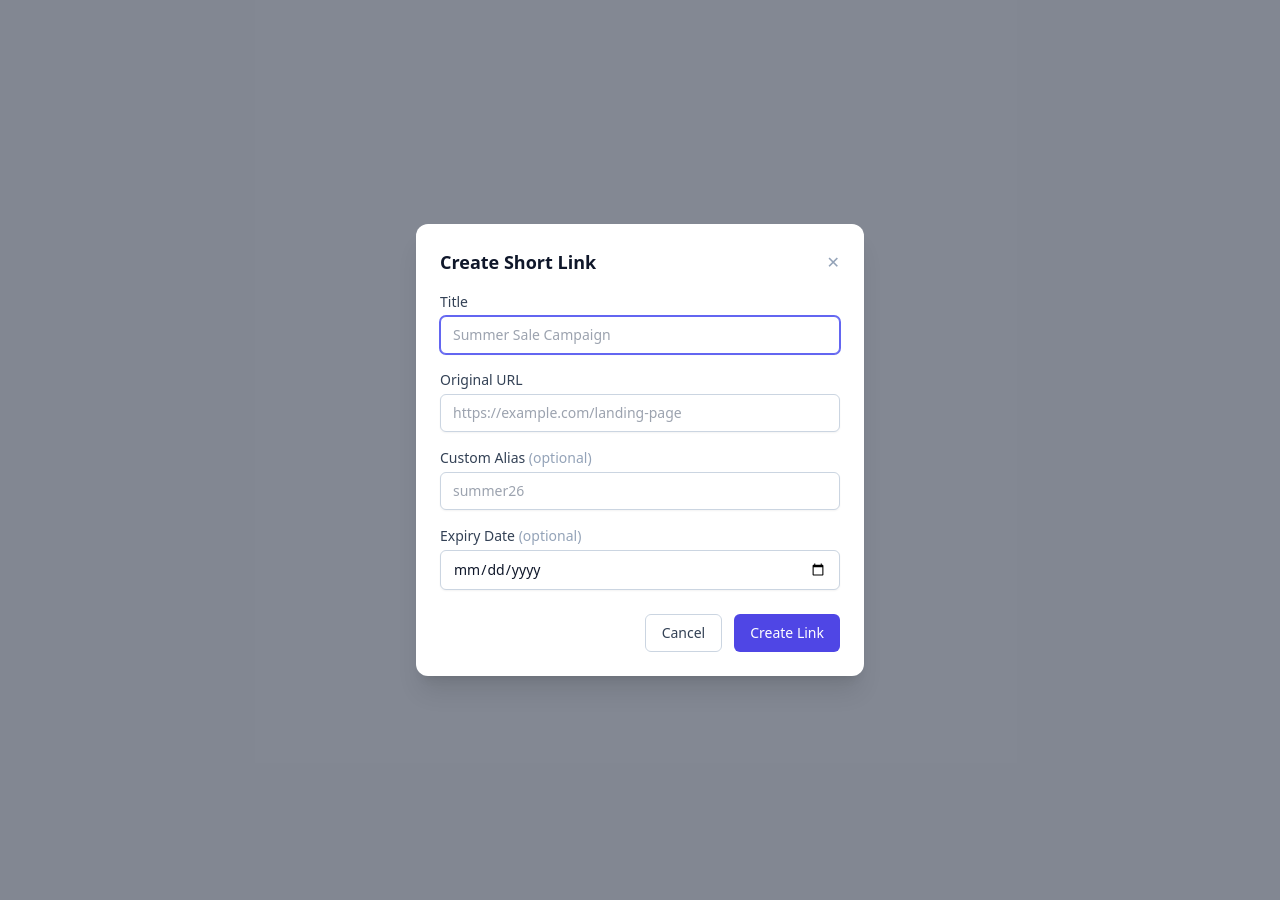
it: LinkFormModal › shows a validation error for a custom alias with invalid characters
Type "My Link" into the field labelled "Title".
click(640, 335); type("My Link")  # box 440,316 -> 840,354
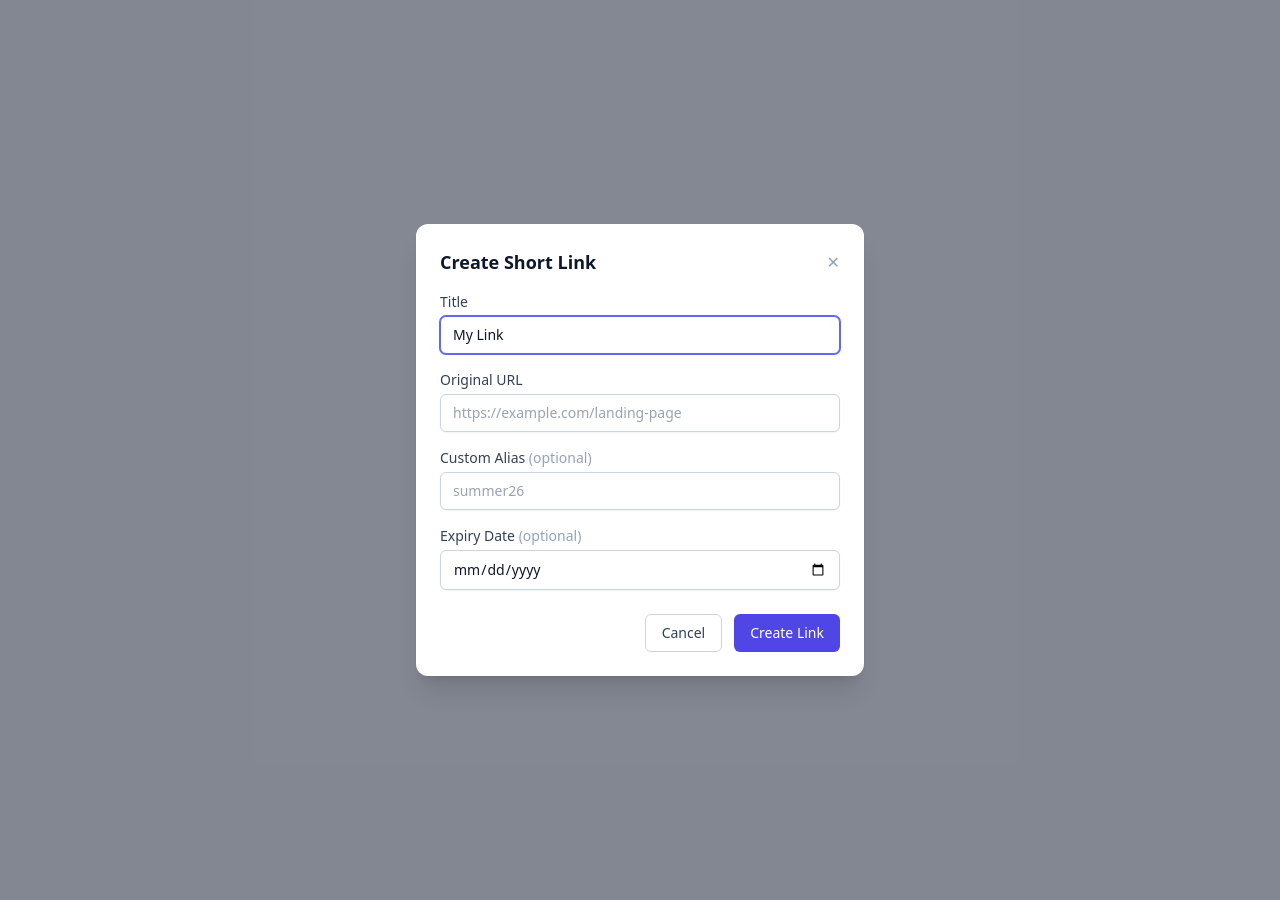
Type "https://example.com" into the field labelled "Original URL".
click(640, 413); type("https://example.com")  # box 440,394 -> 840,432
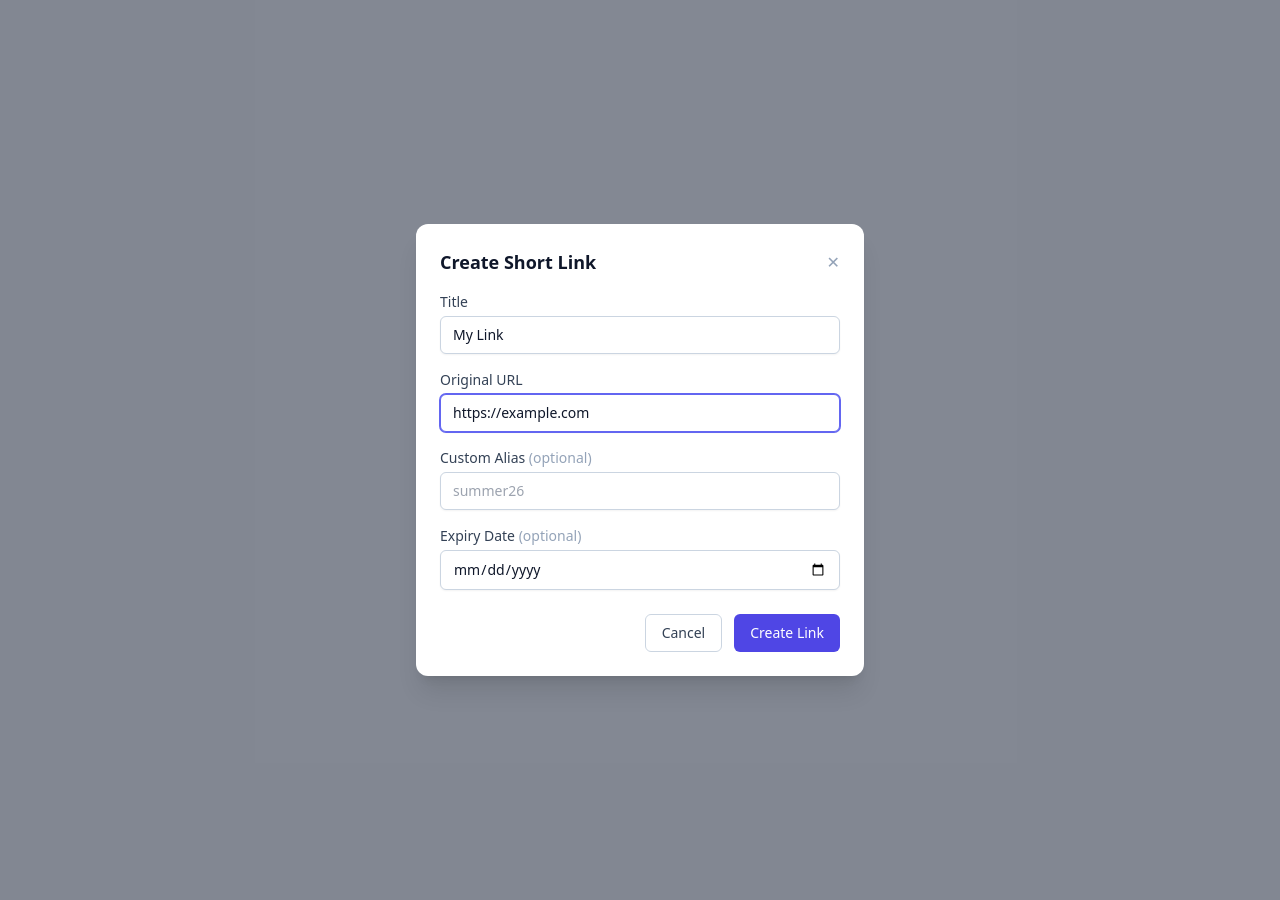
Type "not valid!" into the field labelled "Custom Alias (optional)".
click(640, 491); type("not valid!")  # box 440,472 -> 840,510
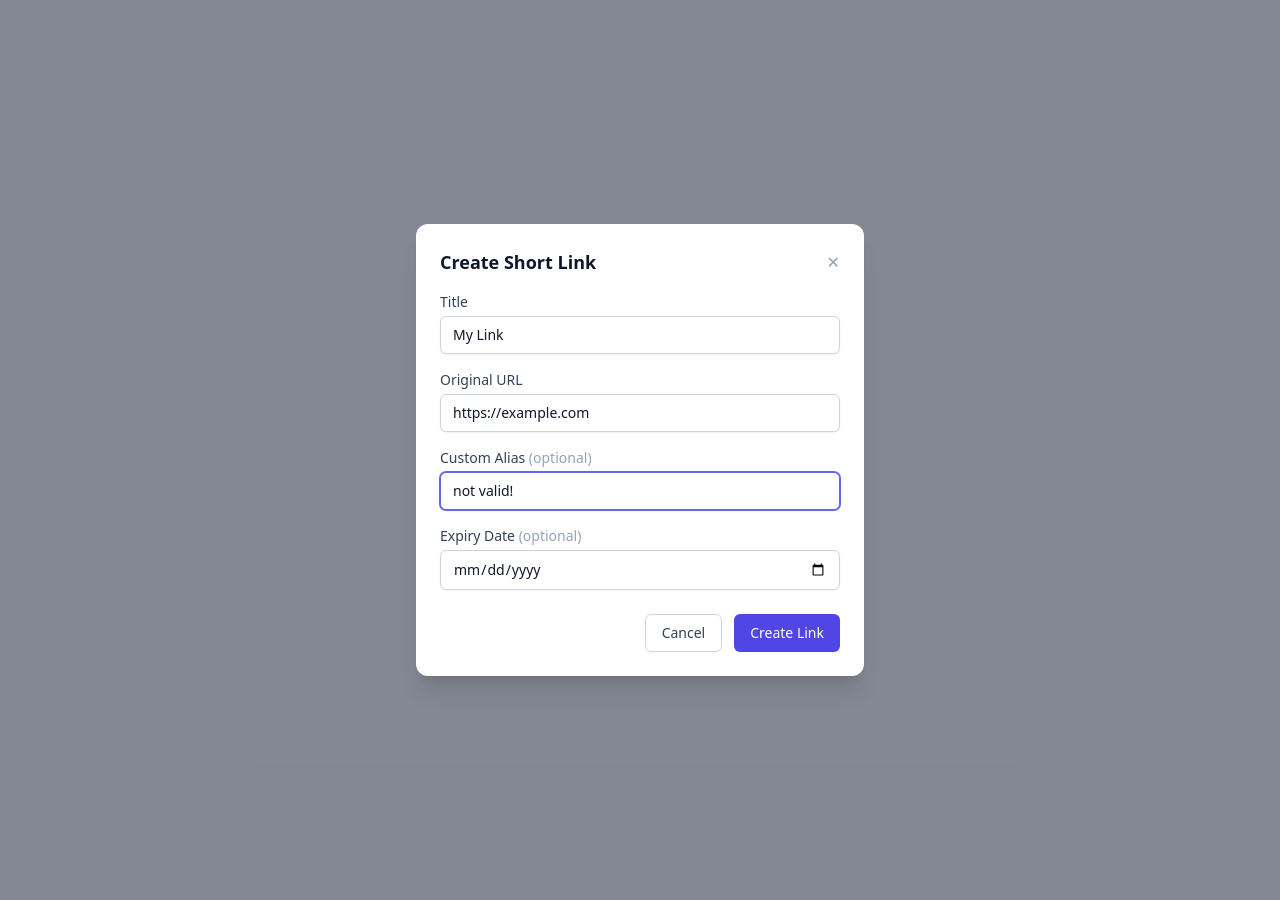
Click the button "Create Link".
click(787, 633)  # box 734,614 -> 840,652
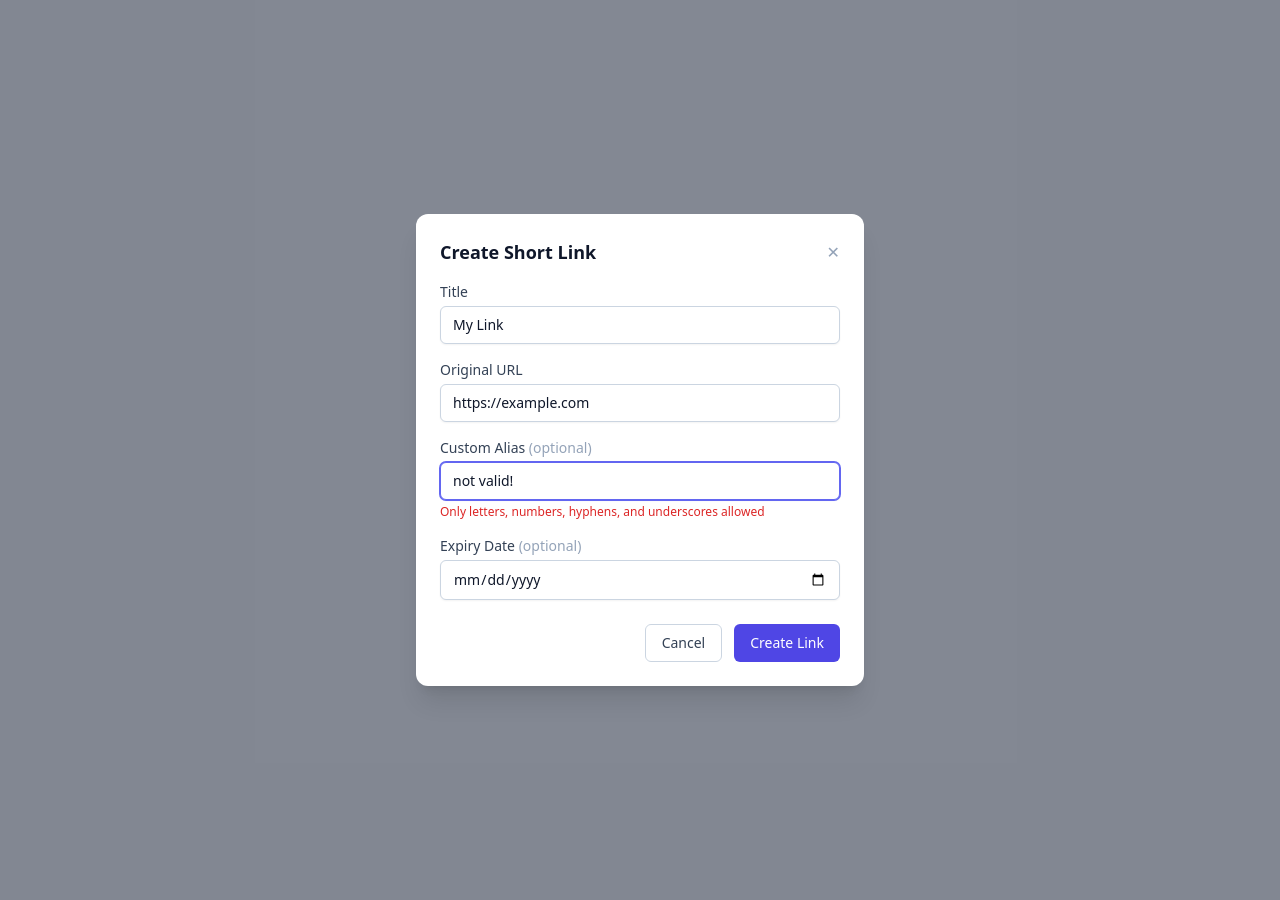
Expected: the text "Only letters, numbers, hyphens, and underscores allowed" is shown, 440,503 -> 764,520
